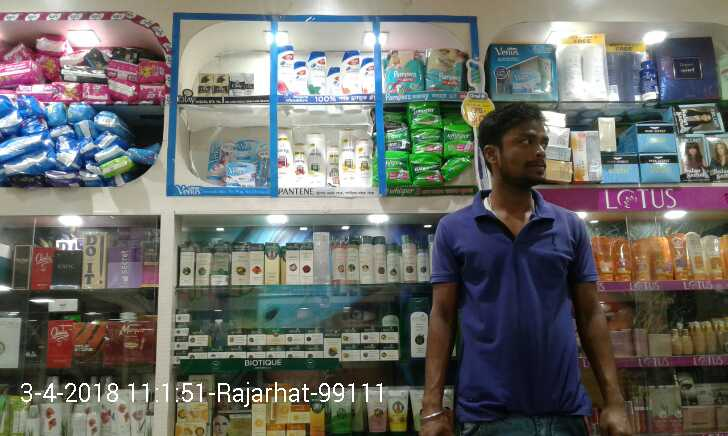venus: (493, 44, 556, 100), (208, 140, 226, 180), (229, 163, 255, 186), (235, 141, 256, 161), (260, 144, 268, 186)
